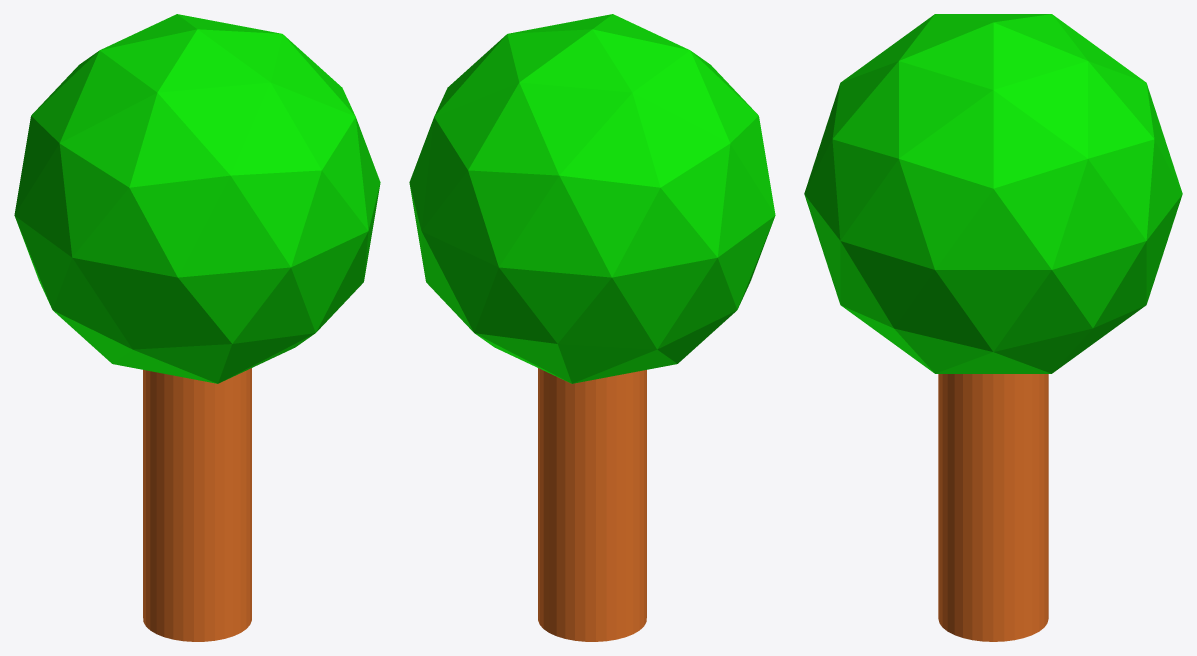
File: SimpleLowPolyTree.fbx
3 renders of one model, left to right at view 1: azimuth 30°, elevation 25°; view 2: azimuth 150°, elevation 25°; view 3: azimuth 270°, elevation 25°, orthographic.
Visible parts, largest first — view 1: Cylinder; view 2: Cylinder; view 3: Cylinder.
Boxes of the visible parts, x1,y1,x2,y2 form: Cylinder: [14, 14, 380, 641]; Cylinder: [409, 14, 775, 641]; Cylinder: [804, 14, 1182, 641].
Size of the model in its own units: 653 by 1194 by 687.
